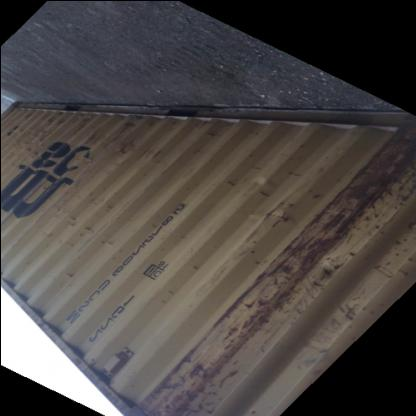Damage: (290, 134, 414, 291), (207, 270, 292, 344), (135, 360, 241, 416), (78, 118, 154, 169), (2, 112, 52, 163)
